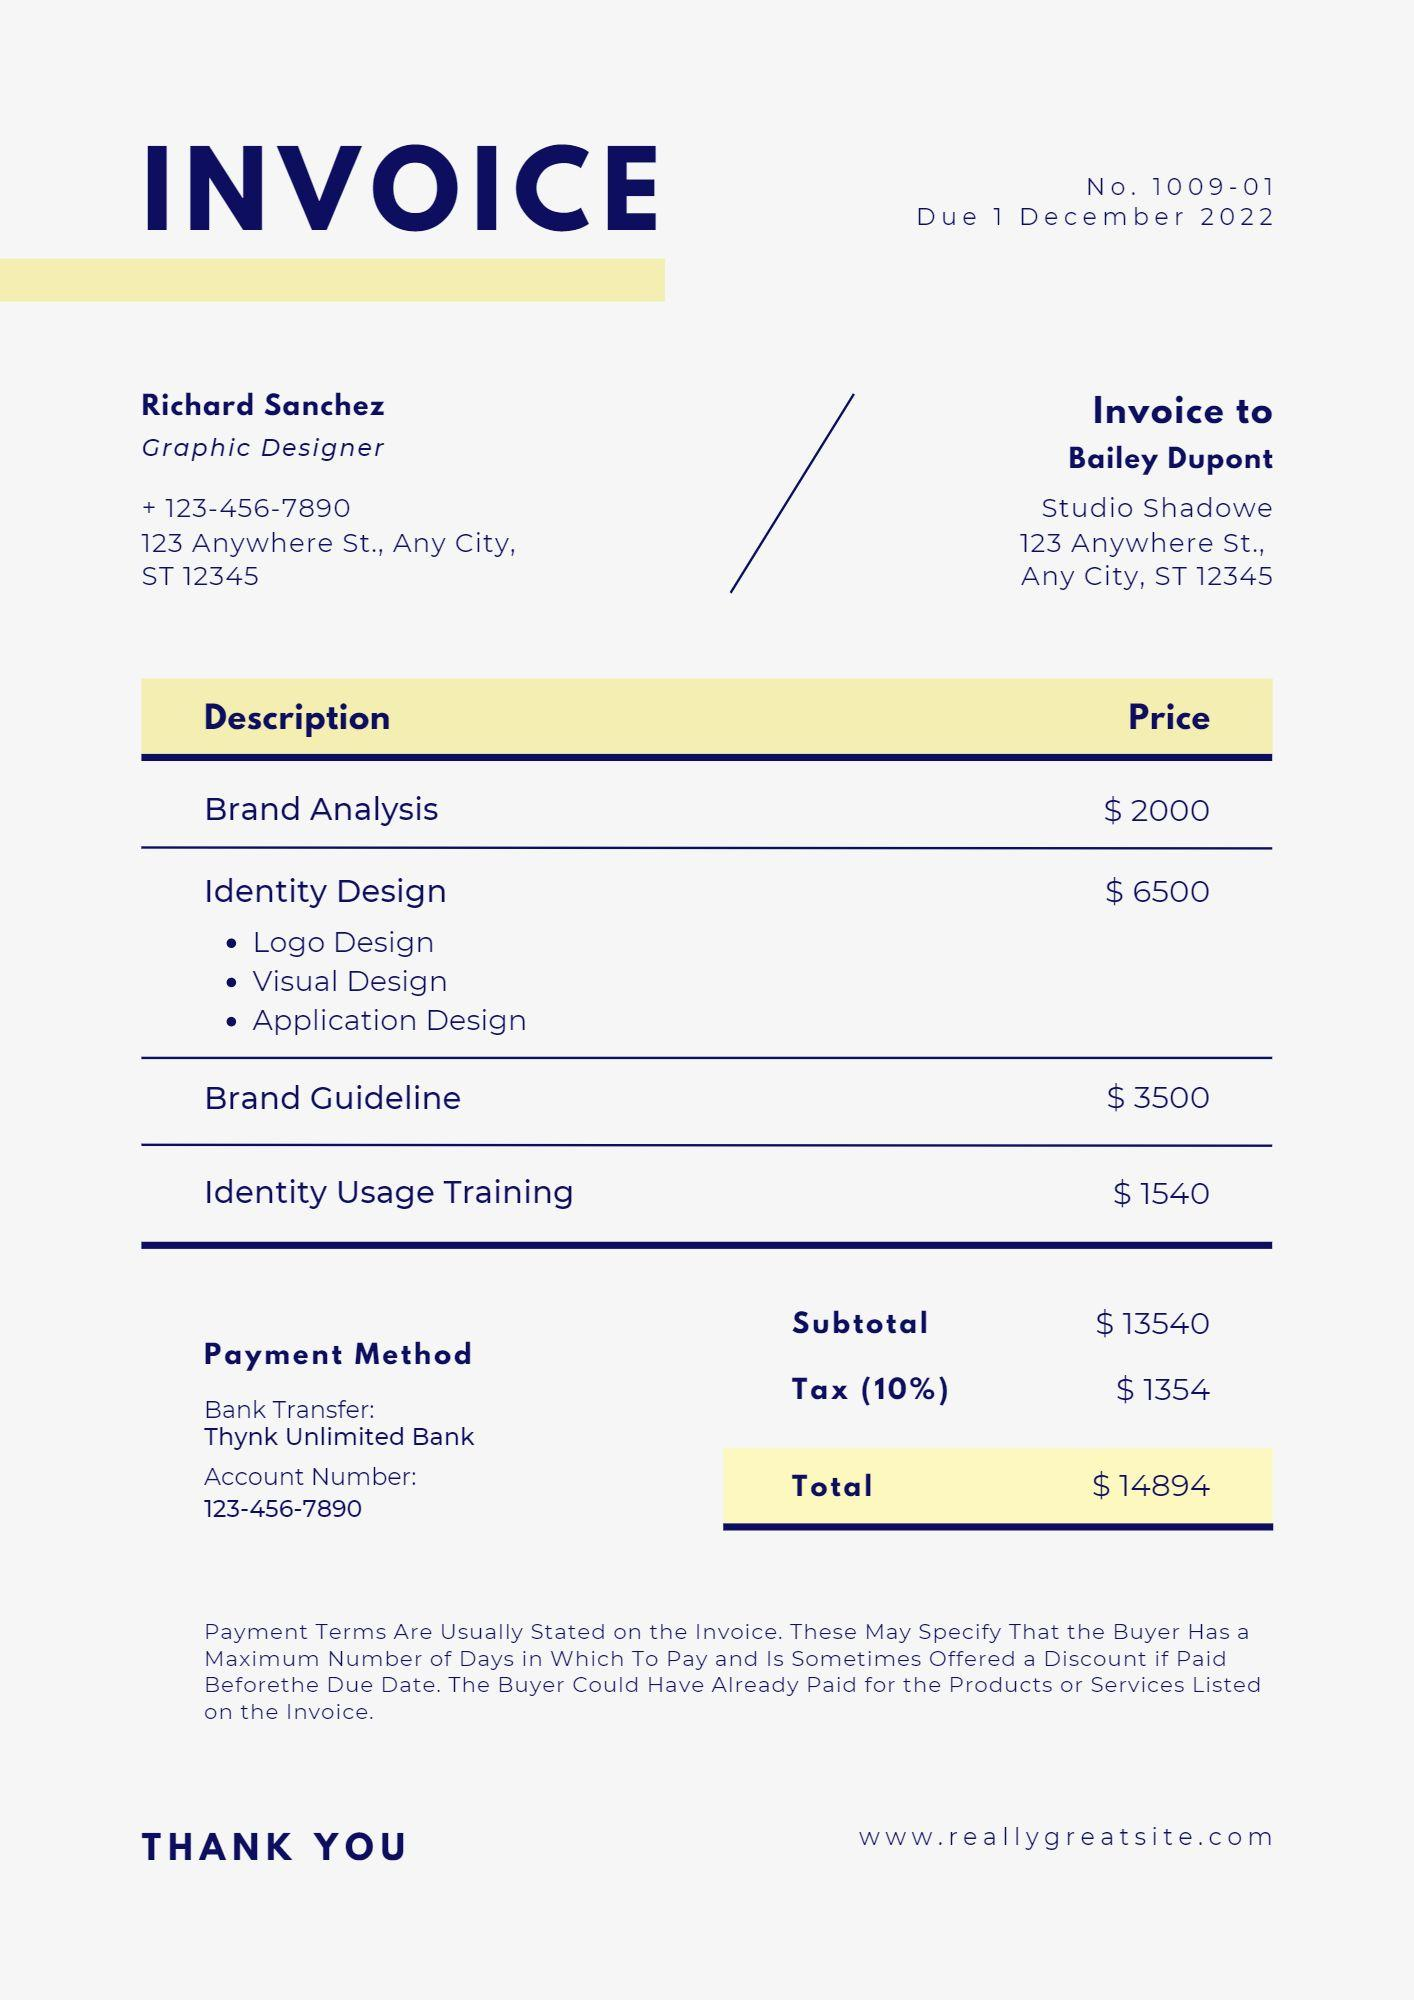ROI: (156, 675, 1262, 1256)
